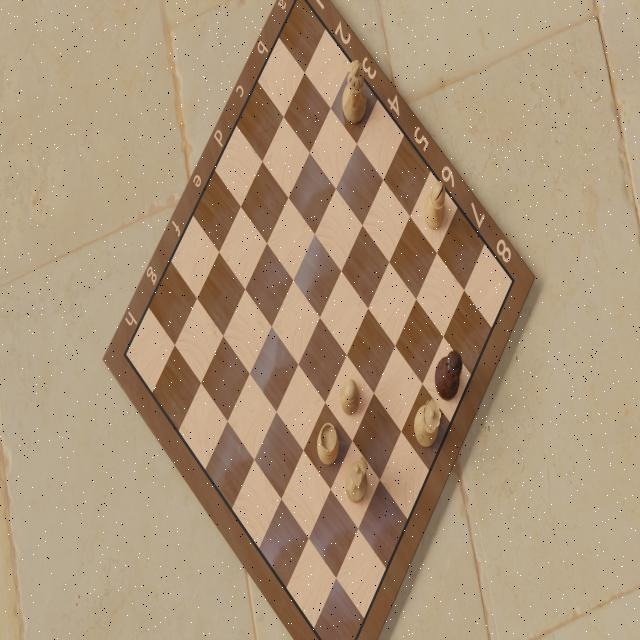black-king: (435, 352, 465, 404)
white-bishop: (423, 178, 448, 233)
white-king: (340, 57, 371, 130)
white-knight: (344, 455, 371, 509)
white-pawn: (338, 378, 361, 420)
white-queen: (413, 396, 442, 453)
white-rook: (315, 422, 341, 470)
